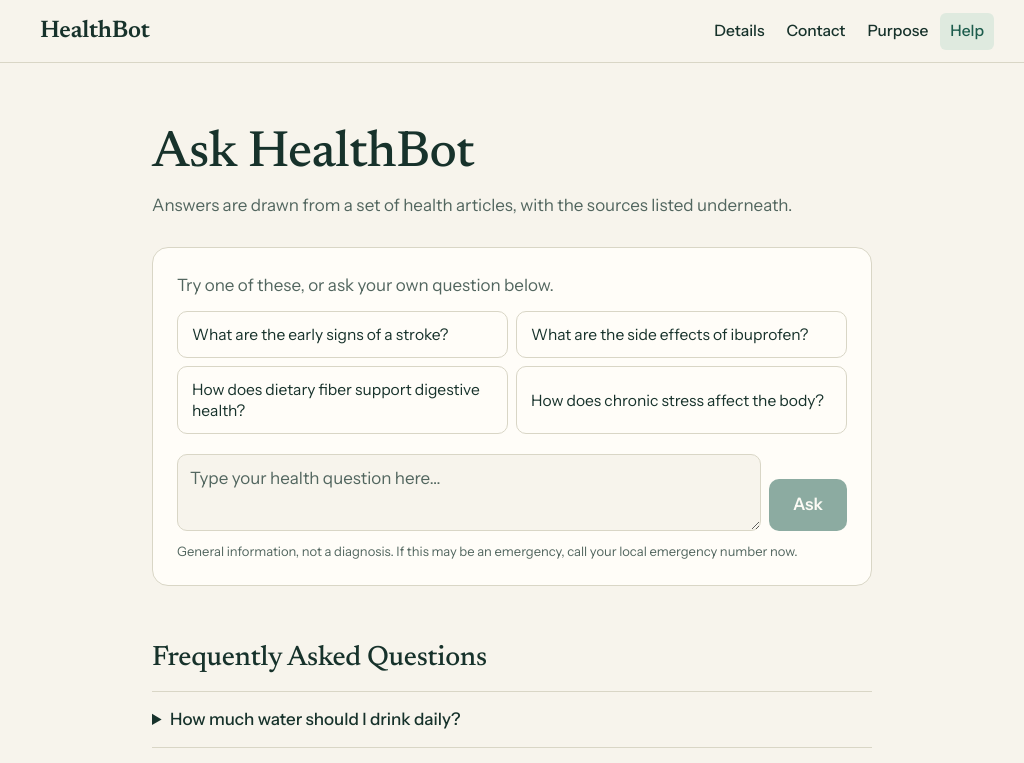
Test: help page explains when the backend is unreachable
Click the button "What are the side effects of ibuprofen?" at (682, 335), box [516,311,847,358]
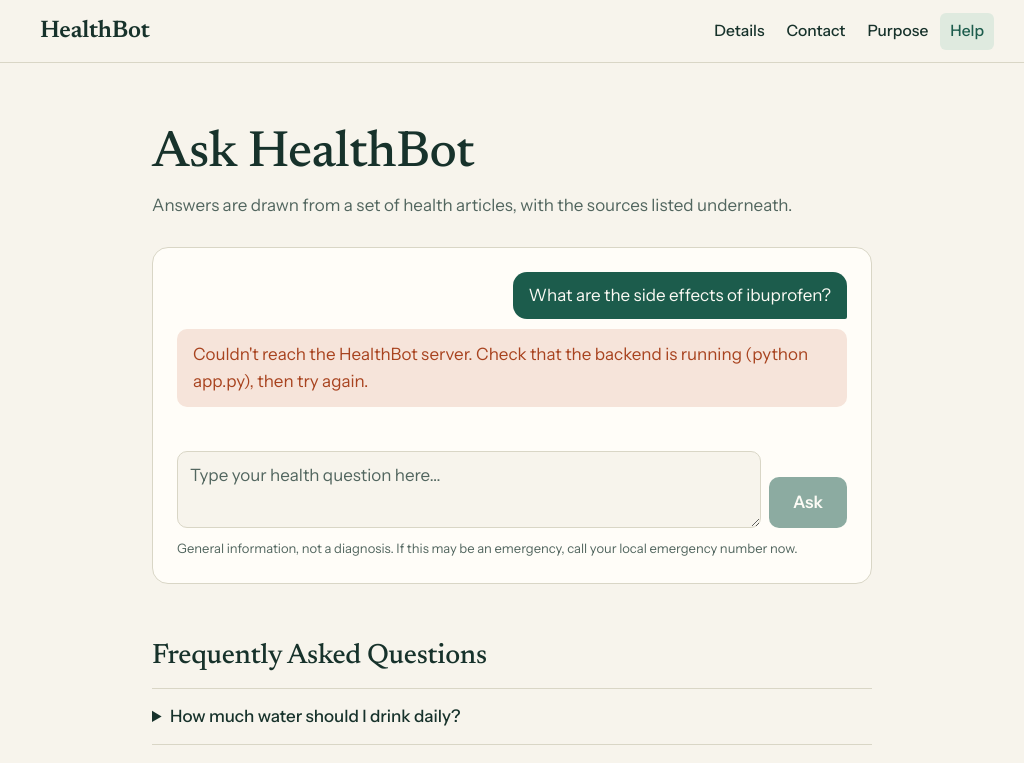
Check: the message shows "Couldn't reach the HealthBot server", box [193,344,812,391]
